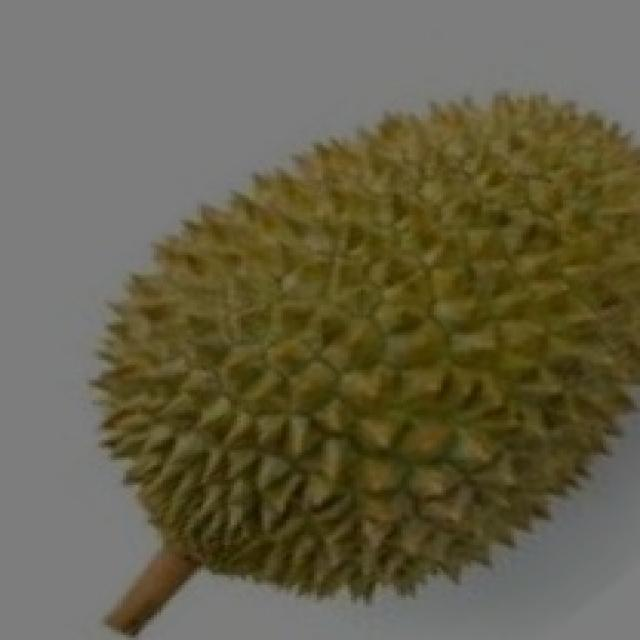fruit: (243, 247, 640, 635), (43, 230, 391, 635)
